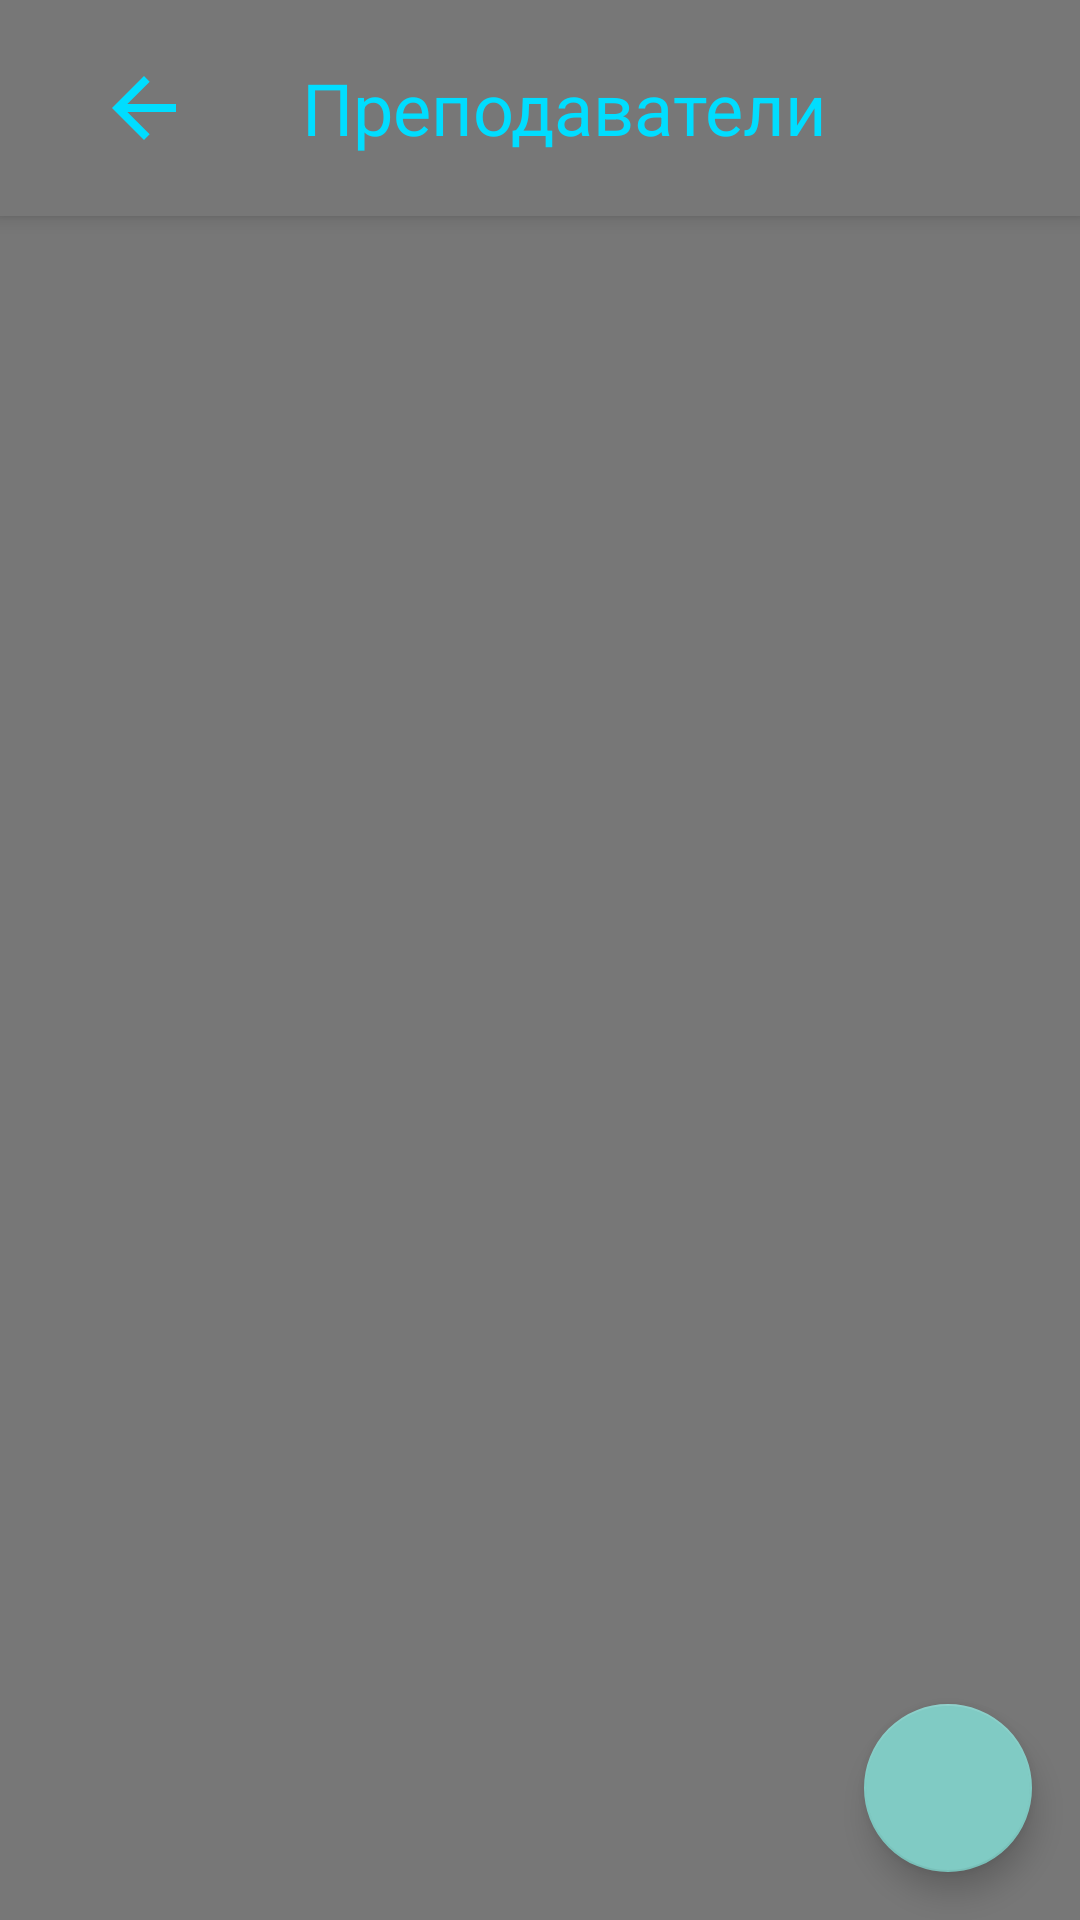

Named icons in this screenshot (1080px×1920px) and their bounding boxes, (x1, y1, x2, y2):
arrow back: (112, 76, 176, 140)
